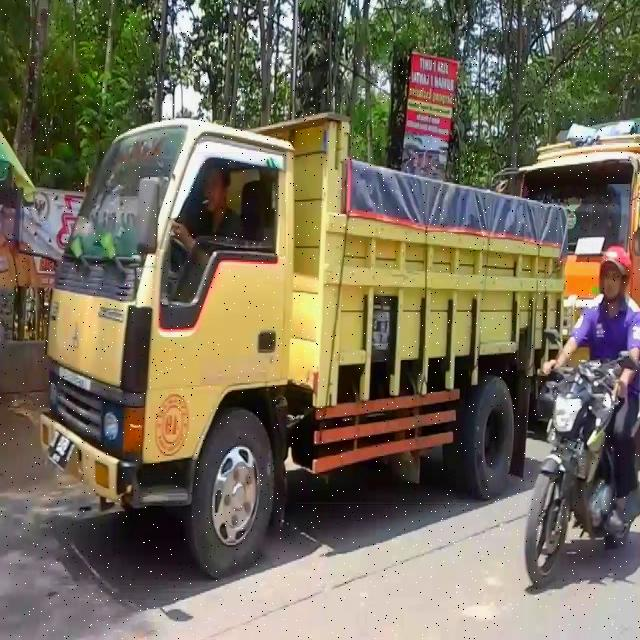truck: (42, 111, 578, 580)
